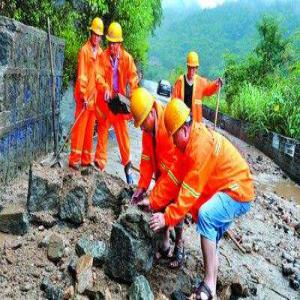yellow: (166, 98, 192, 146), (130, 87, 157, 133), (108, 22, 124, 58), (90, 16, 106, 47), (187, 52, 200, 79)
